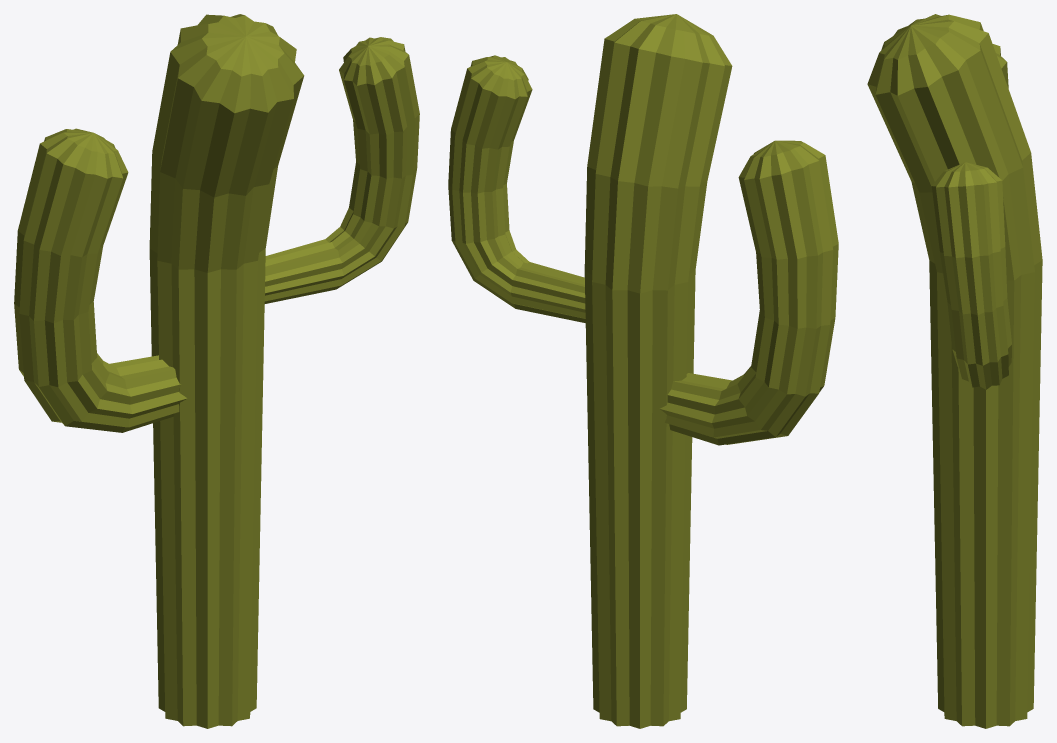
The model's file is kit-cactus.glb.
The picture shows the model from 3 angles, left to right: view 1: azimuth 30°, elevation 25°; view 2: azimuth 150°, elevation 25°; view 3: azimuth 270°, elevation 25°; orthographic projection. The views are drawn at different scales.
Parts seen in each view (by area): view 1: Cylinder.188; view 2: Cylinder.188; view 3: Cylinder.188.
Part boxes in pixels (x1,y1,x2,y2): Cylinder.188: [14, 14, 419, 728]; Cylinder.188: [448, 14, 838, 728]; Cylinder.188: [867, 14, 1042, 728].
Bounding box in the file's own units: 0.7791 × 1.33 × 0.3068.
Materials: 1 (1 with a texture image).
